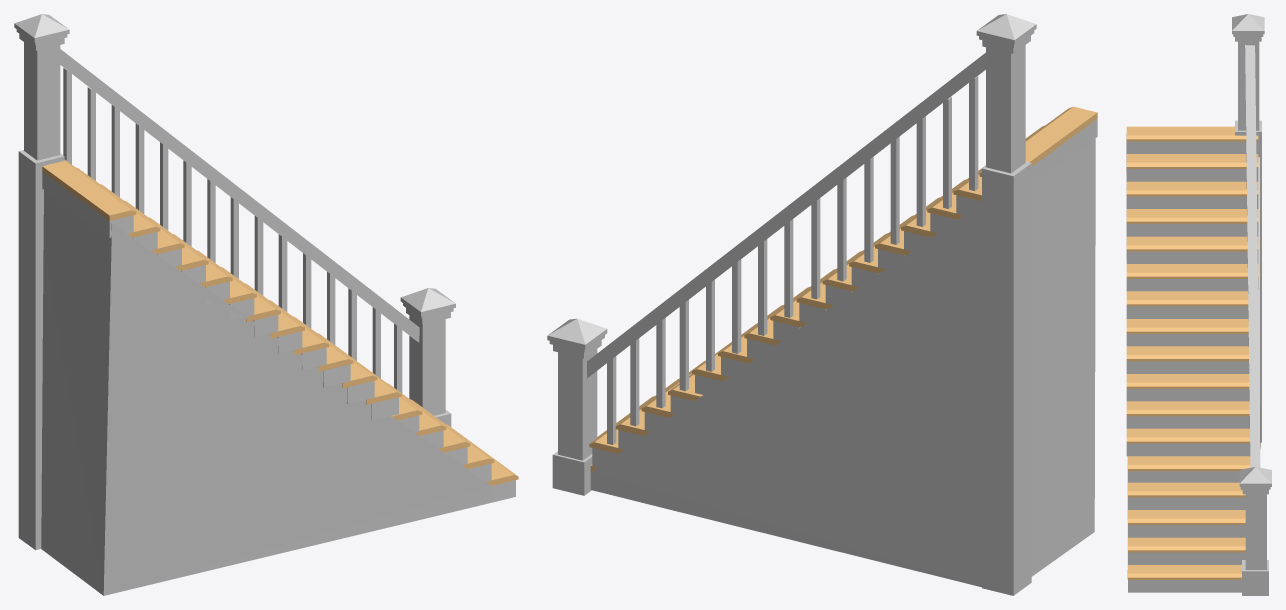
Rendered from staircase-by-jarlan-perez-25Qz8jk8GXr.glb.
3 renders of one model, left to right at view 1: azimuth 30°, elevation 25°; view 2: azimuth 150°, elevation 25°; view 3: azimuth 270°, elevation 25°, orthographic. The views are drawn at different scales.
Visible parts, largest first — view 1: Node; view 2: Node; view 3: Node.
Boxes of the visible parts, bbox=[...] form: Node: bbox=[14, 14, 518, 595]; Node: bbox=[547, 14, 1097, 595]; Node: bbox=[1126, 14, 1271, 595].
Bounding box in the file's own units: 1.59 × 1.88 × 0.5875.
